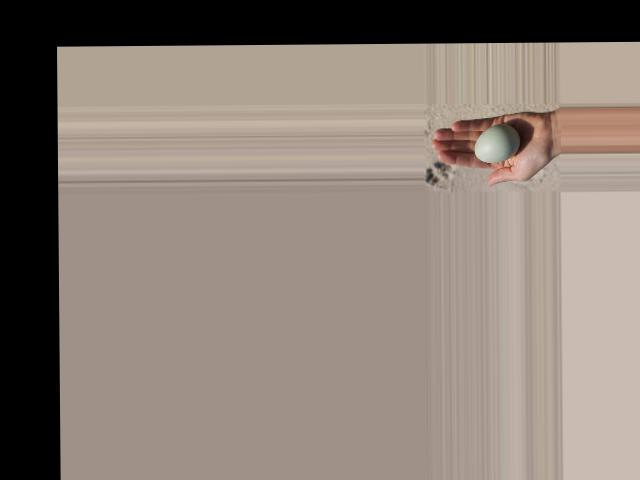egg: (473, 123, 518, 162)
